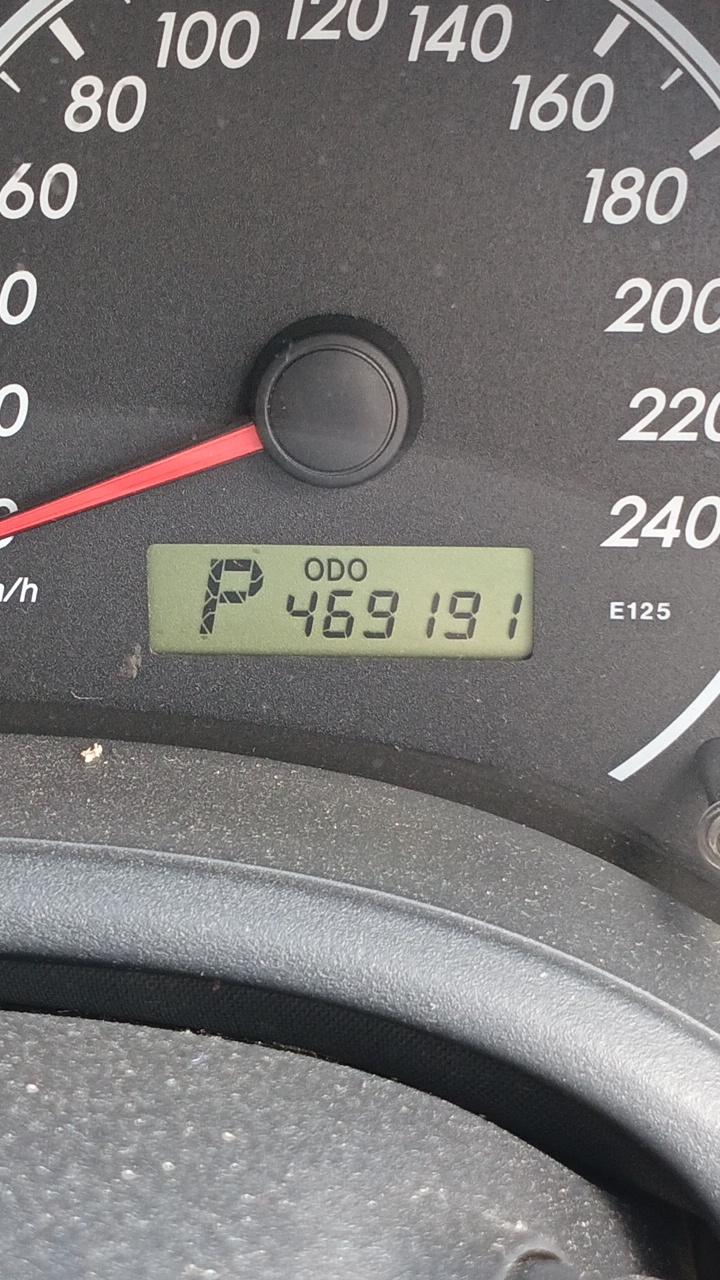1: (424, 591, 441, 640), (506, 592, 523, 640)
4: (284, 590, 319, 638)
6: (322, 588, 356, 639)
9: (361, 589, 400, 640), (443, 591, 482, 640)
X: (196, 557, 266, 639), (303, 557, 325, 582), (347, 558, 368, 582), (326, 558, 346, 582)
odometer: (145, 542, 535, 664)
